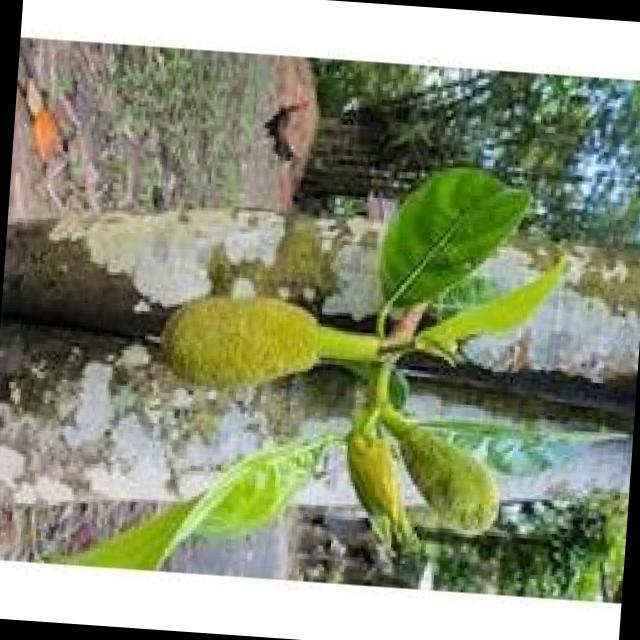Fruit: (118, 264, 336, 422)
